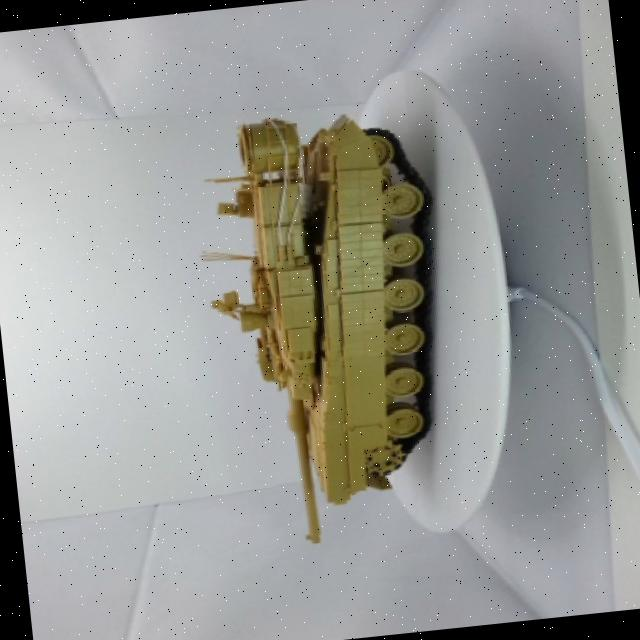korea tank: (168, 84, 478, 581)
